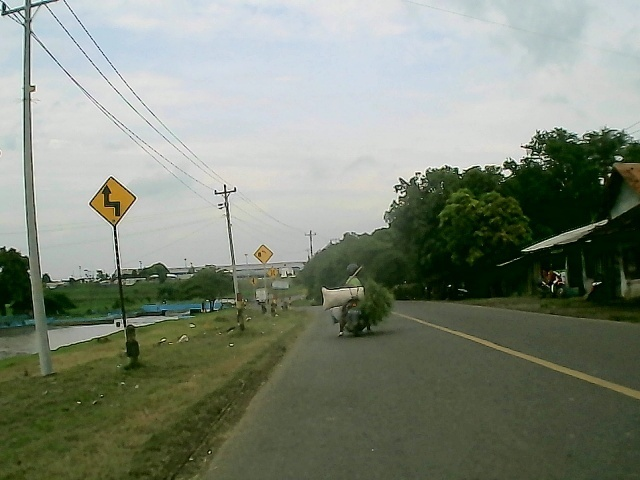Peringatan tepi air: (251, 243, 275, 266)
Tikungan garda pertama kiri: (88, 176, 140, 226)
